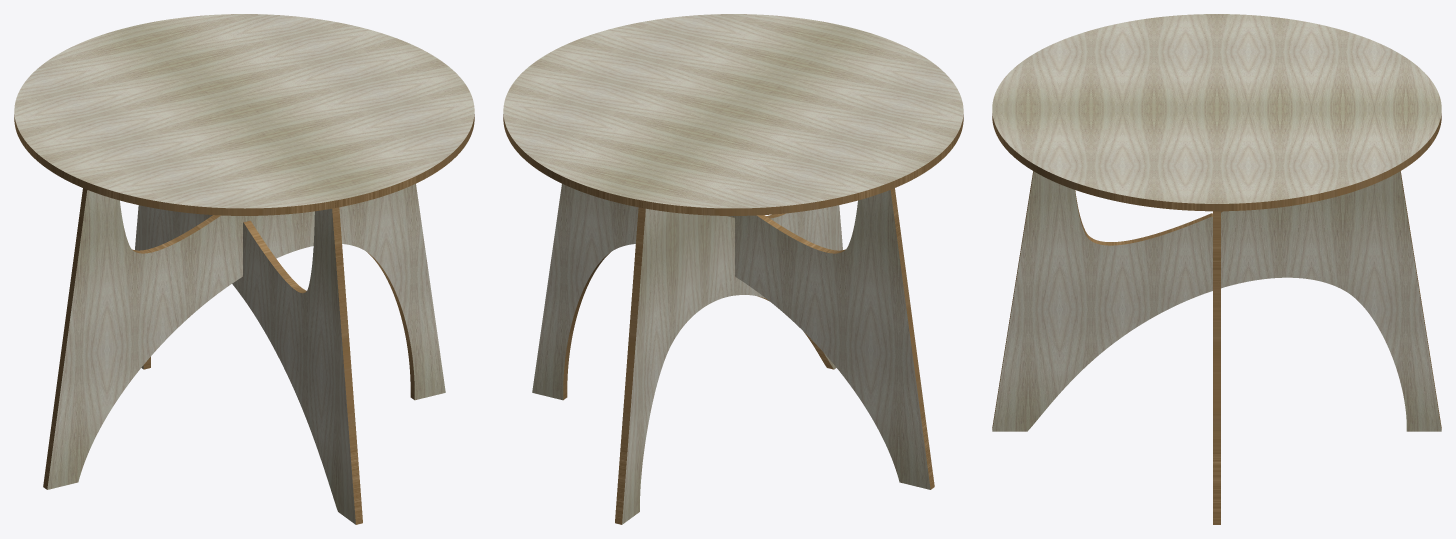
File: NODO_COMEDOR_CRUZ_KIRI_V1.glb
The picture shows the model from 3 angles, left to right: view 1: azimuth 30°, elevation 25°; view 2: azimuth 150°, elevation 25°; view 3: azimuth 270°, elevation 25°; orthographic projection. The views are drawn at different scales.
Visible parts, largest first — view 1: Tapa, Lateral_2, Lateral_1; view 2: Tapa, Lateral_2, Lateral_1; view 3: Tapa, Lateral_1, Lateral_2.
Part boxes in pixels (x1,y1,x2,y2): Tapa: (14, 14, 474, 215); Lateral_2: (43, 184, 445, 489); Lateral_1: (135, 205, 362, 524); Tapa: (503, 14, 963, 215); Lateral_2: (532, 183, 934, 489); Lateral_1: (615, 205, 842, 524); Tapa: (992, 14, 1441, 211); Lateral_1: (992, 171, 1441, 431); Lateral_2: (1213, 211, 1220, 524).
Bounding box in the file's own units: 1 × 0.788 × 1.
Materials: 2 (2 with a texture image).
